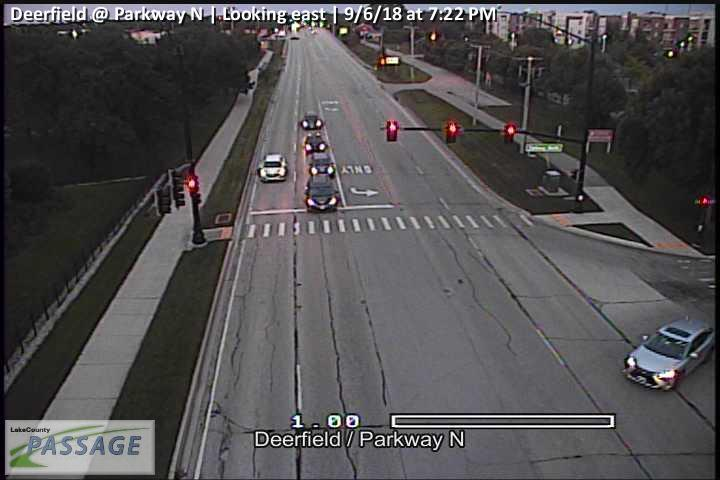Sedan: (623, 318, 715, 391), (305, 175, 339, 212), (257, 154, 286, 181), (308, 152, 335, 175), (304, 132, 327, 151), (299, 110, 322, 129)
